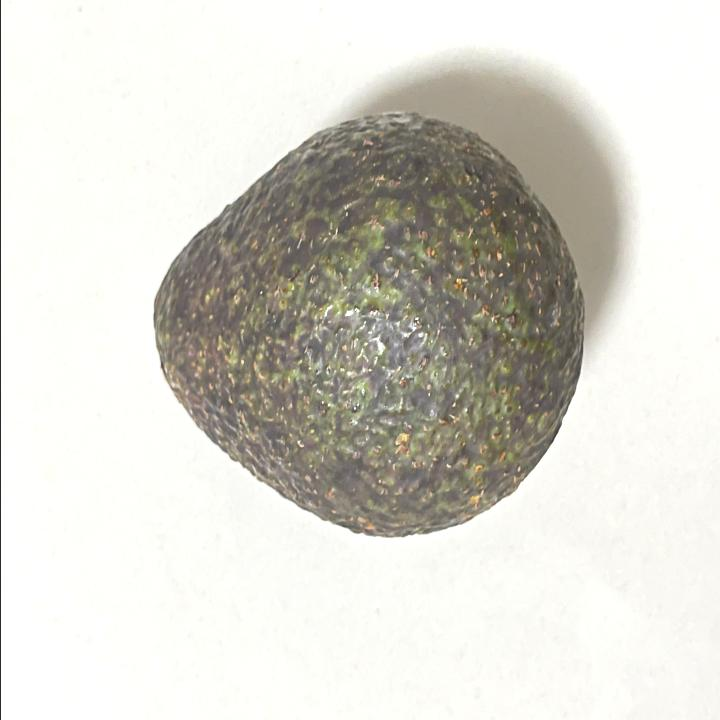Level1: (139, 100, 592, 559)
